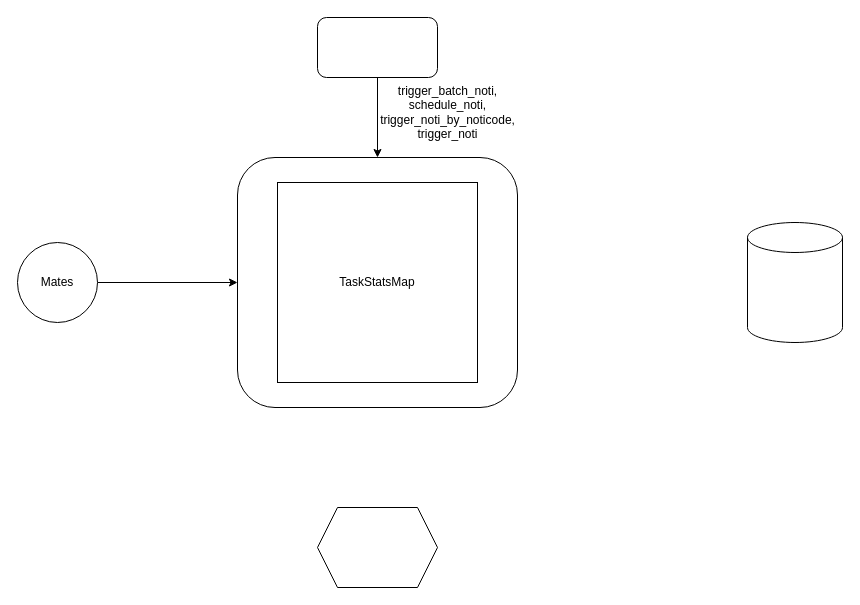
The diagram is 860 pixels wide and 605 high, and some of its shapes have lost their labels. Each missing label, with the centre of its shape:
"DB" belongs at (x=794, y=282).
"ExternalService" belongs at (x=377, y=47).
